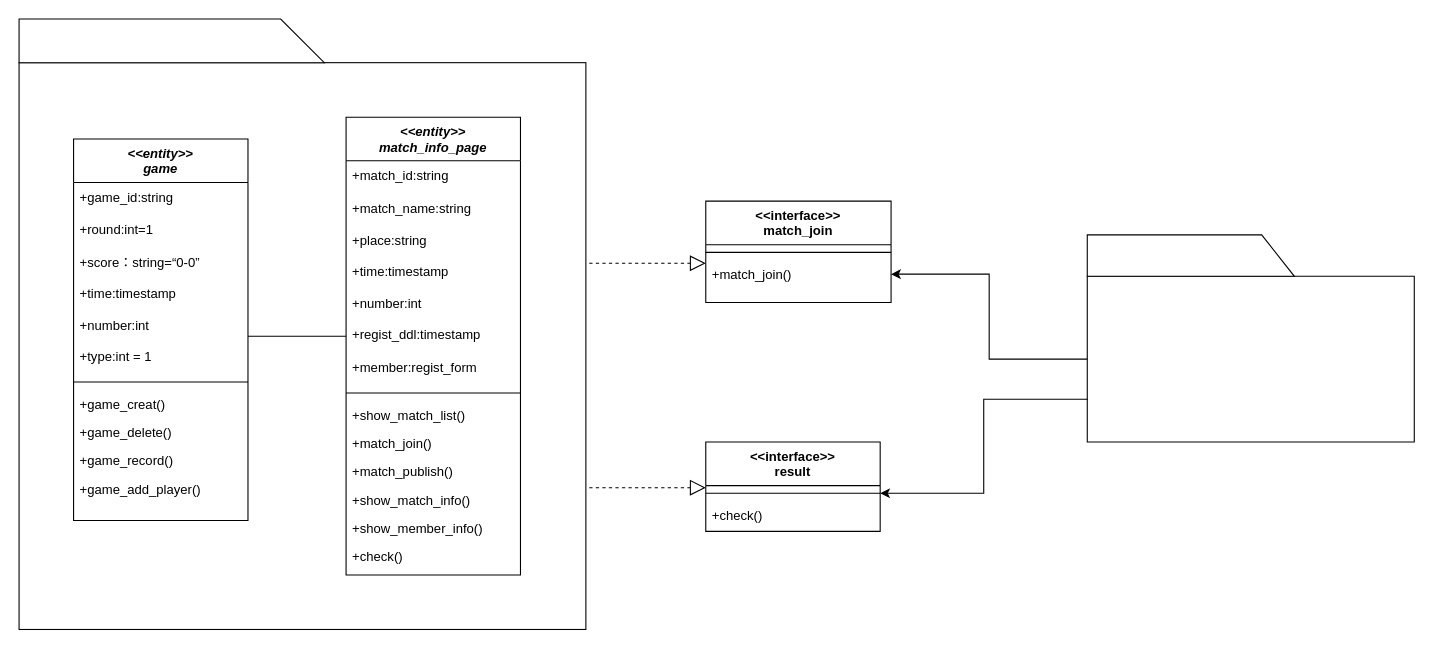
The diagram is 1433 pixels wide and 649 high, and some of its shapes have lost their labels. Each missing label, with the centre of its shape:
"acount_manage_system" goes at point (1190, 255).
"Match_Subsystem" goes at point (171, 40).
